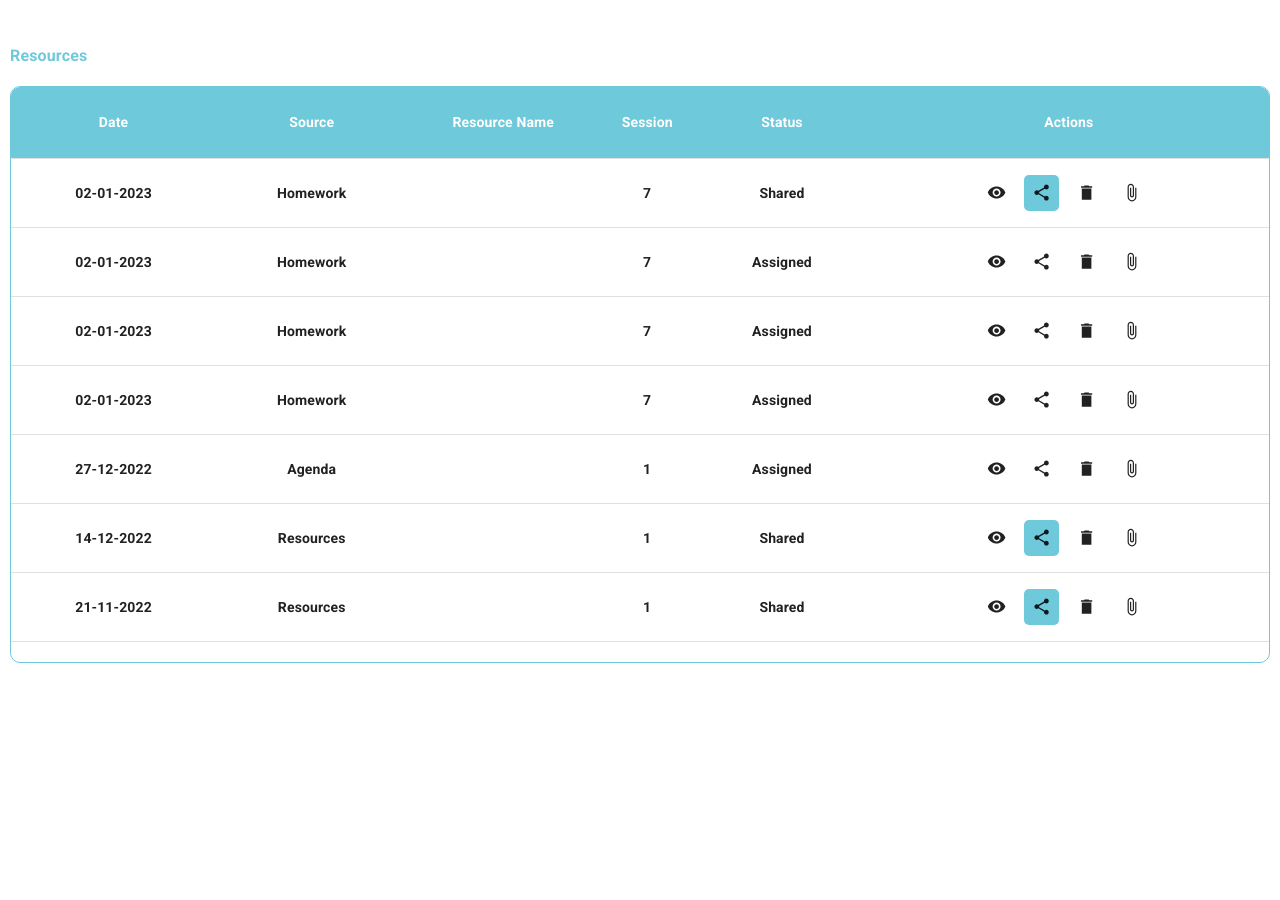
Test: Therapist patient resource list page › should share therapist patient
Click the button with test id "iconButton_share_ce465fdd296b46afac0192630c0ee34a": (1041, 262) left=1024, top=244, right=1059, bottom=280
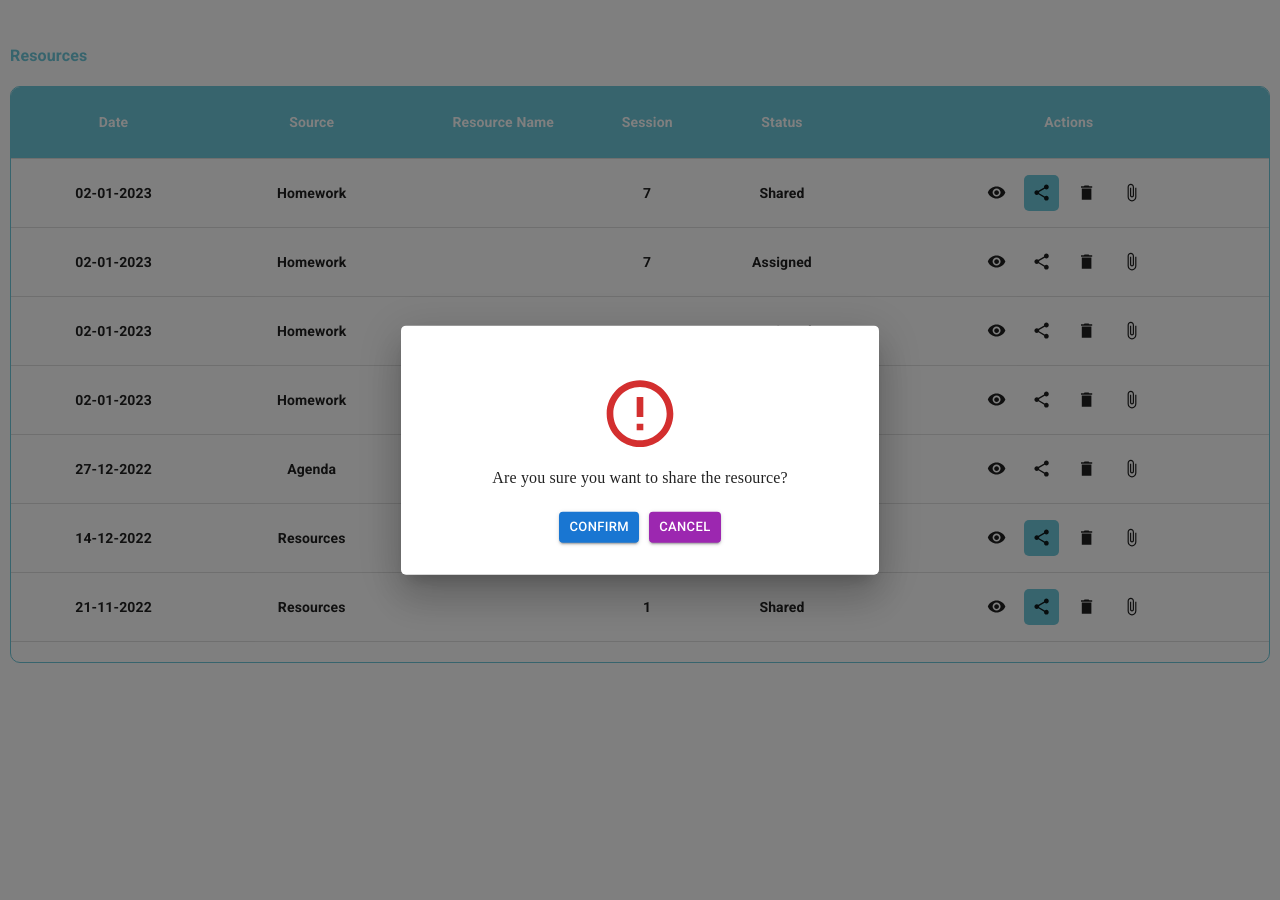
Check: the button with test id "confirmButton" is shown
Click the button with test id "confirmButton": (599, 527) left=560, top=512, right=639, bottom=542
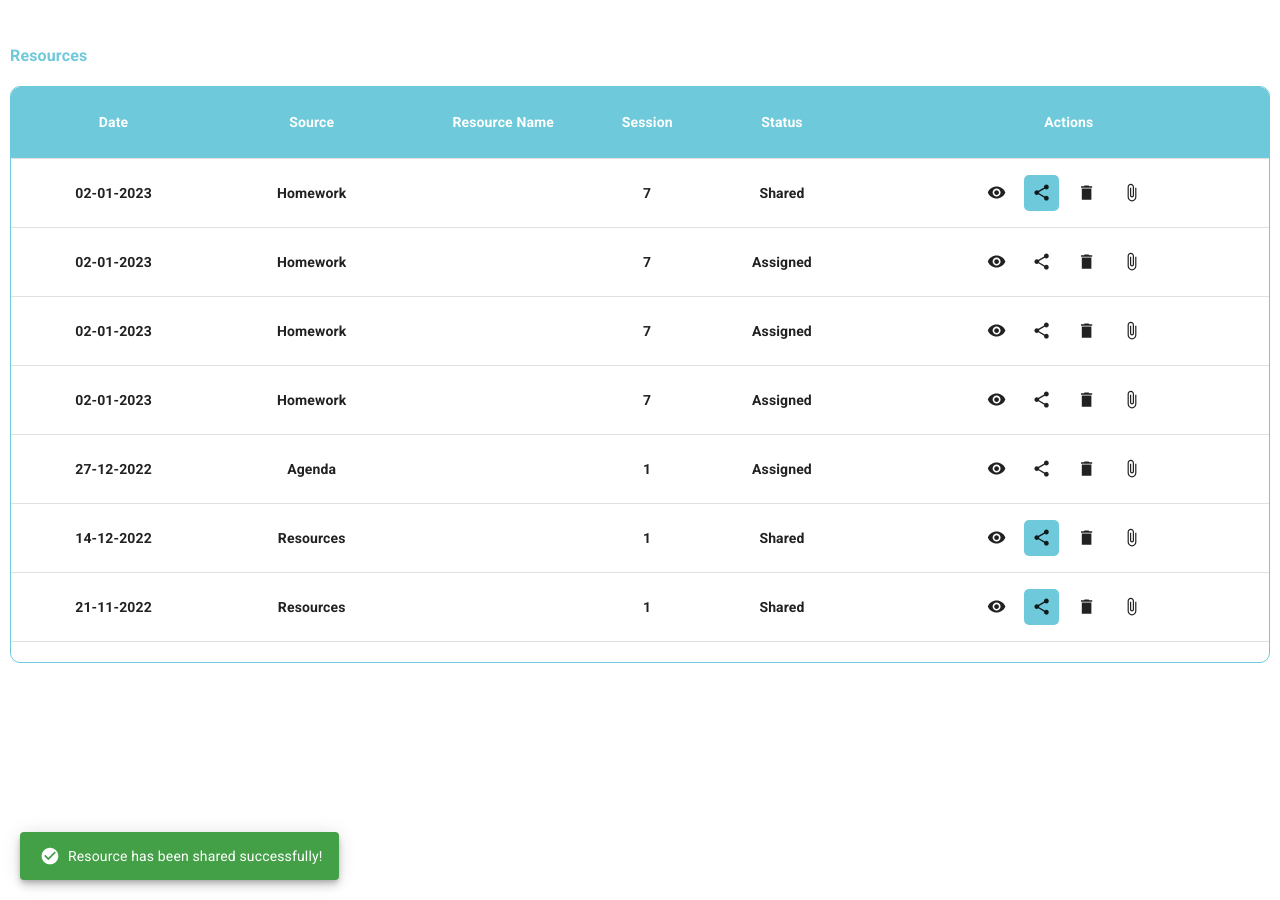
Check: the text "Resource has been shared successfully!" is shown, box left=40, top=846, right=322, bottom=866
